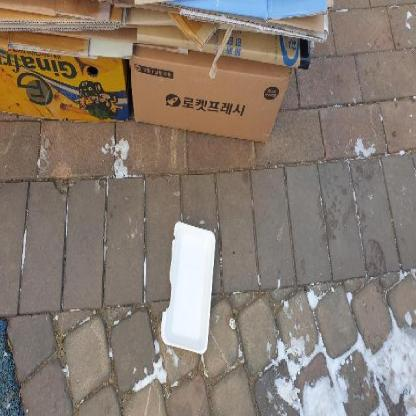Glass Cup: (158, 221, 216, 356), (161, 222, 215, 355)
